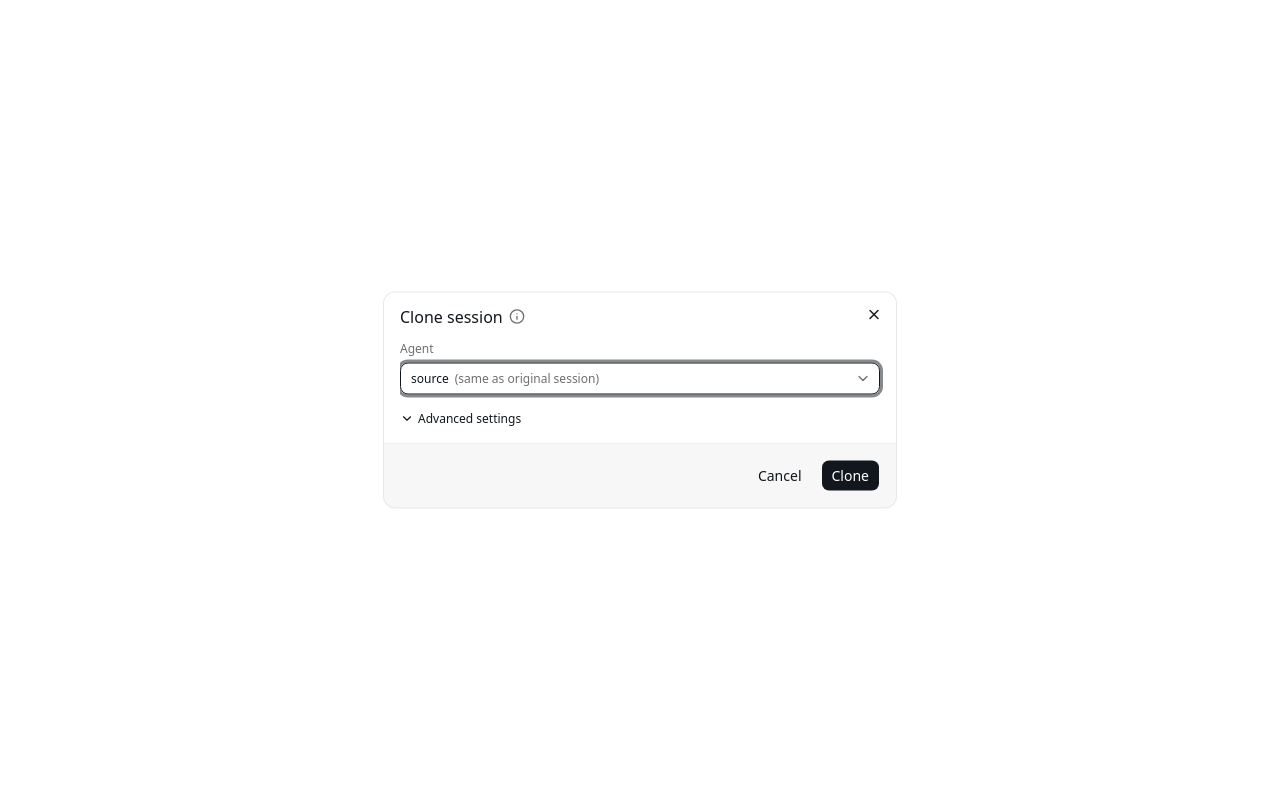
Test: ForkSessionDialog › surfaces the server error inline on failure and does not navigate
Click the button with test id "fork-session-submit" at (850, 476), box [820,460,880,492]
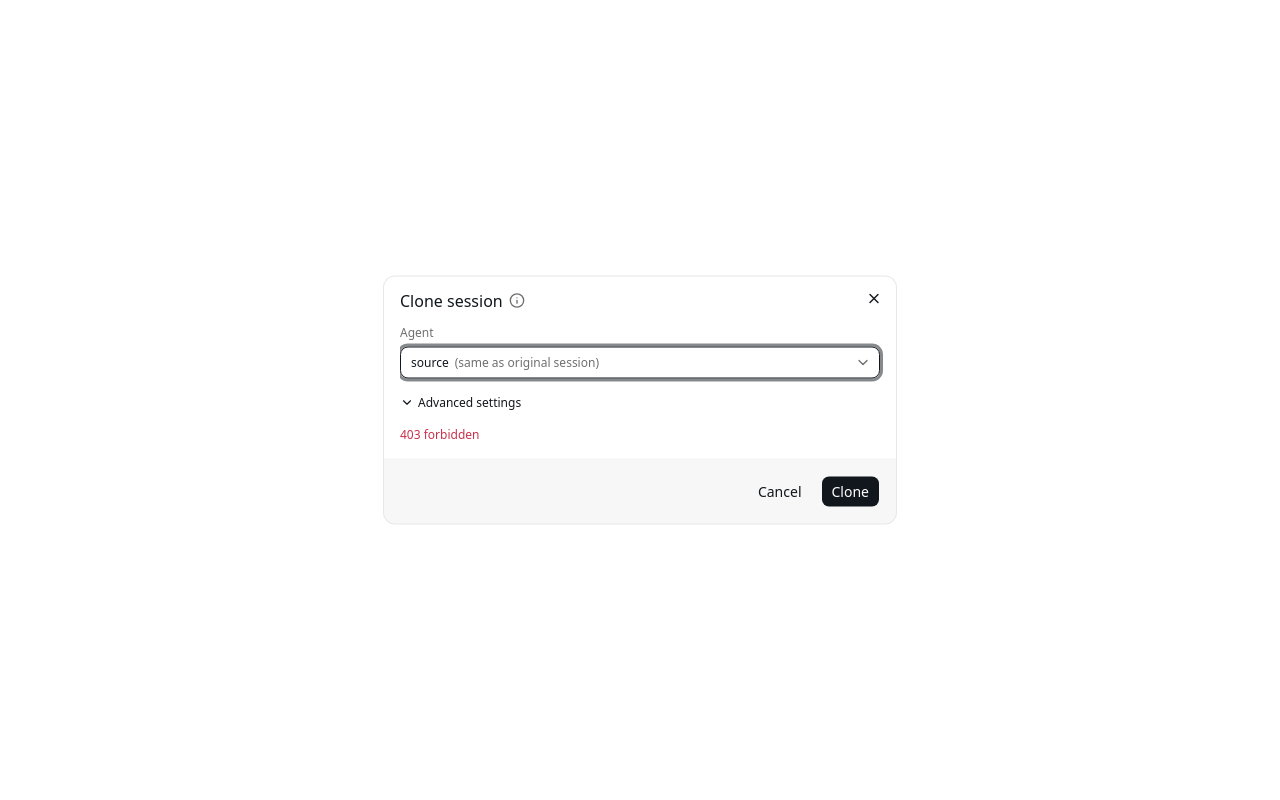
Expected: the text with test id "fork-session-error" reads "403 forbidden", [400,426,480,442]
